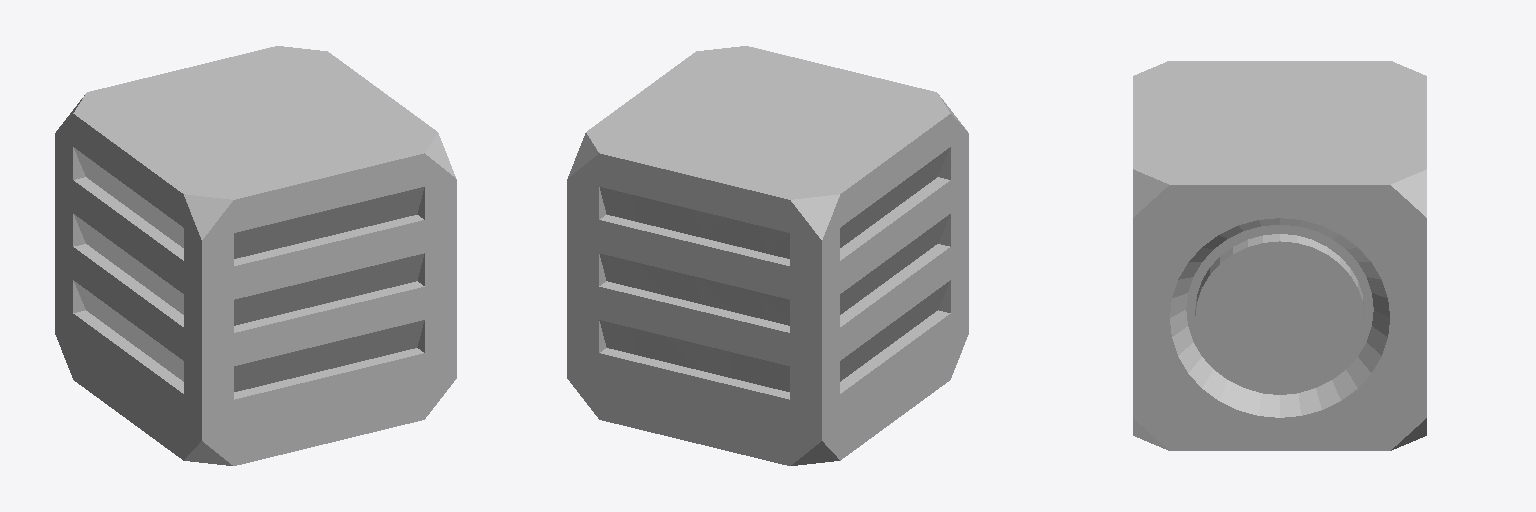
File: item_manipulator.obj
The picture shows the model from 3 angles: view 1: azimuth 30°, elevation 25°; view 2: azimuth 150°, elevation 25°; view 3: azimuth 270°, elevation 25°; orthographic projection.
Parts seen in each view (by area): view 1: Sphere.001_Sphere.013; view 2: Sphere.001_Sphere.013; view 3: Sphere.001_Sphere.013.
Boxes of the visible parts, x1=… form: Sphere.001_Sphere.013: x1=55, y1=46, x2=456, y2=465; Sphere.001_Sphere.013: x1=567, y1=46, x2=968, y2=465; Sphere.001_Sphere.013: x1=1133, y1=61, x2=1426, y2=450.
Bounding box in the file's own units: 1 × 1 × 1.